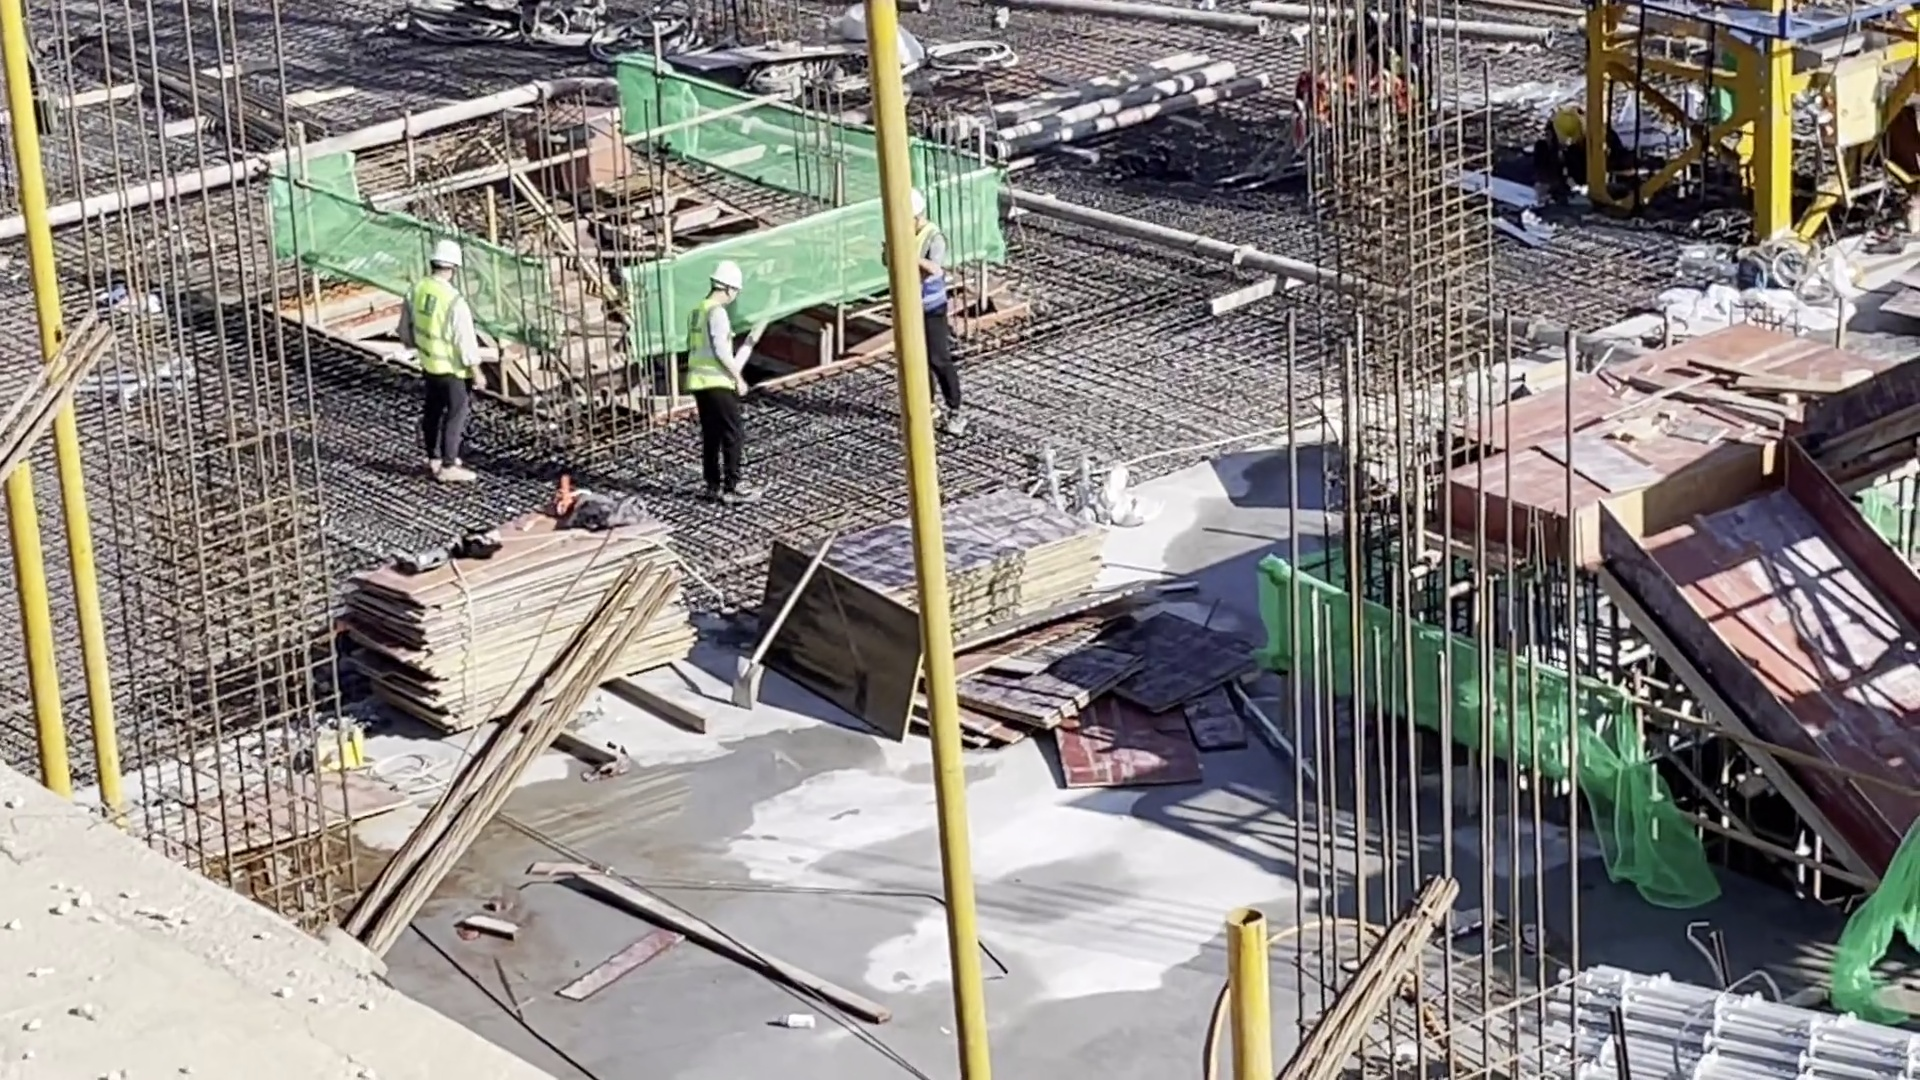board: (337, 490, 702, 739), (795, 480, 1106, 638)
helmet: (429, 235, 462, 272), (706, 264, 747, 293), (1552, 108, 1584, 142), (907, 193, 925, 219)
person: (682, 261, 775, 498), (881, 191, 971, 438), (411, 232, 484, 485), (1532, 100, 1625, 222)
scaffold: (1543, 952, 1920, 1075)
vest: (413, 271, 472, 390), (684, 298, 741, 393), (915, 224, 951, 312)
